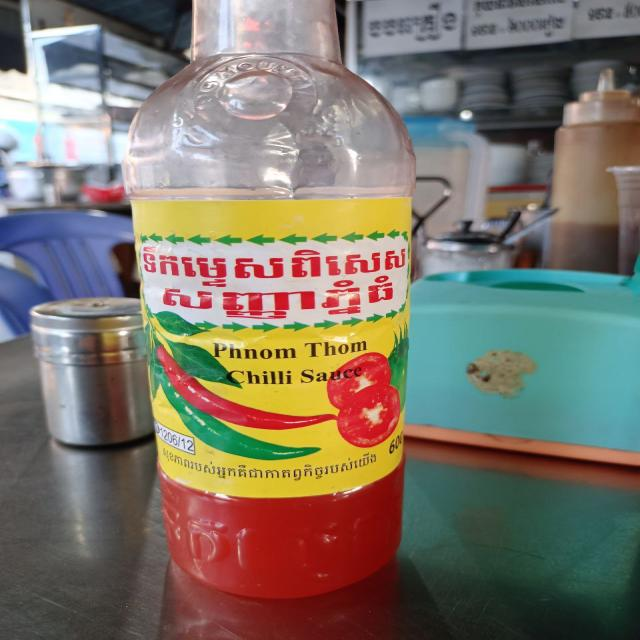Yolov11kh: (139, 243, 413, 290), (153, 275, 407, 320), (159, 443, 385, 484)
